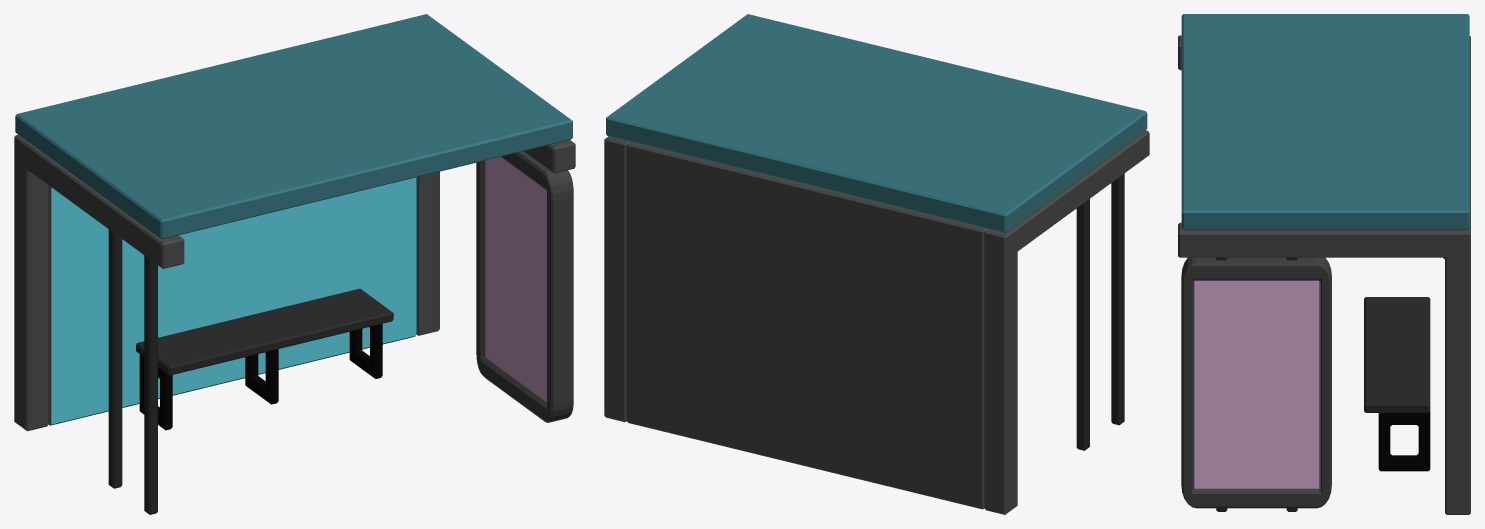
The model's file is bus-stop-shelter.fbx.
3 views of the same model, side by side, from view 1: azimuth 30°, elevation 25°; view 2: azimuth 150°, elevation 25°; view 3: azimuth 270°, elevation 25° (orthographic). The views are drawn at different scales.
Visible parts, largest first — view 1: Cube.010; view 2: Cube.010; view 3: Cube.010.
Part boxes in pixels (left/top/right/bottom): Cube.010: left=14, top=14, right=575, bottom=514; Cube.010: left=604, top=14, right=1149, bottom=514; Cube.010: left=1178, top=14, right=1470, bottom=514.
Bounding box in the file's own units: 878 × 627 × 547.
